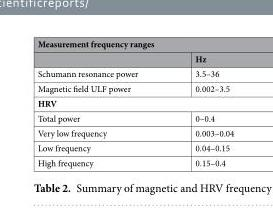table: (36, 37, 233, 168)
table column: (36, 37, 165, 168), (165, 37, 233, 168)
table column header: (36, 37, 233, 65)
table projected row header: (36, 95, 233, 110)
table row: (36, 50, 233, 65), (36, 65, 233, 80), (36, 80, 233, 95), (36, 95, 233, 110), (36, 110, 233, 125), (36, 125, 233, 140), (36, 140, 233, 154), (36, 154, 233, 168), (36, 37, 233, 50)
table spanning cell: (36, 37, 233, 50)
